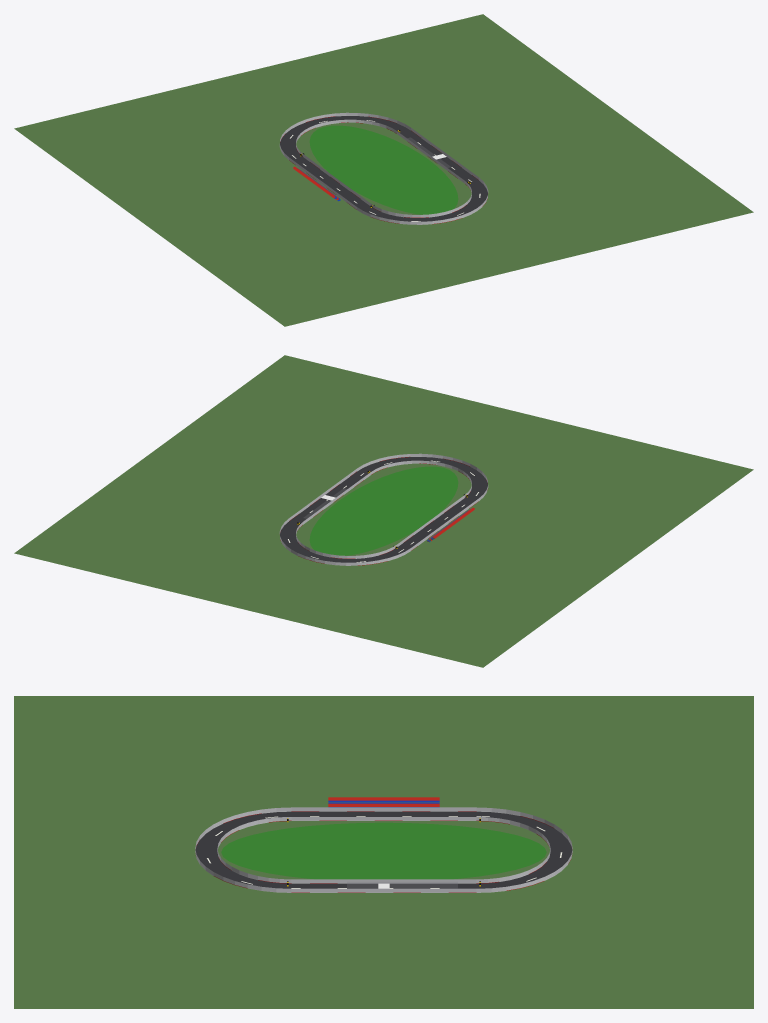
Rendered from race_track.obj.
3 views of the same model, one above another, from view 1: azimuth 30°, elevation 25°; view 2: azimuth 150°, elevation 25°; view 3: azimuth 270°, elevation 25° (orthographic). The views are drawn at different scales.
Visible parts, largest first — view 1: RaceTrack; view 2: RaceTrack; view 3: RaceTrack.
Part boxes in pixels (x1,y1,x2,y2): RaceTrack: (14,14,753,326); RaceTrack: (14,355,753,667); RaceTrack: (14,696,753,1008).
Size of the model in its own units: 400 by 4.7 by 400.
